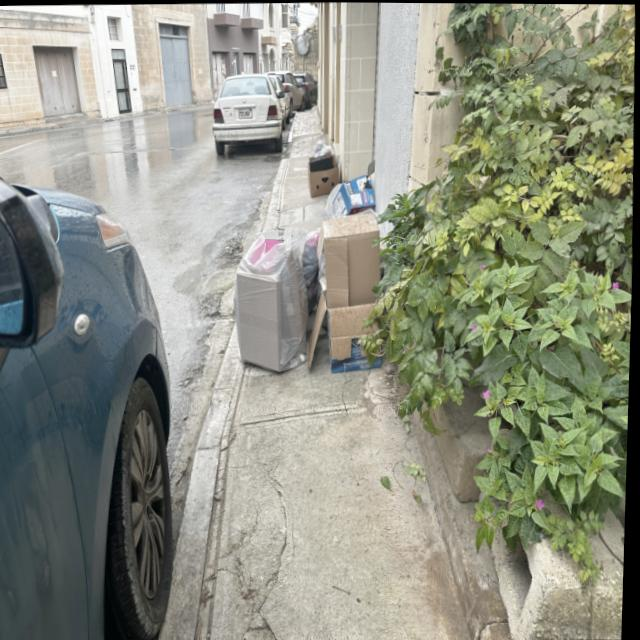Others Waste: (317, 212, 384, 372)
Recyclable Material -Grey Bags-: (235, 226, 321, 372)
